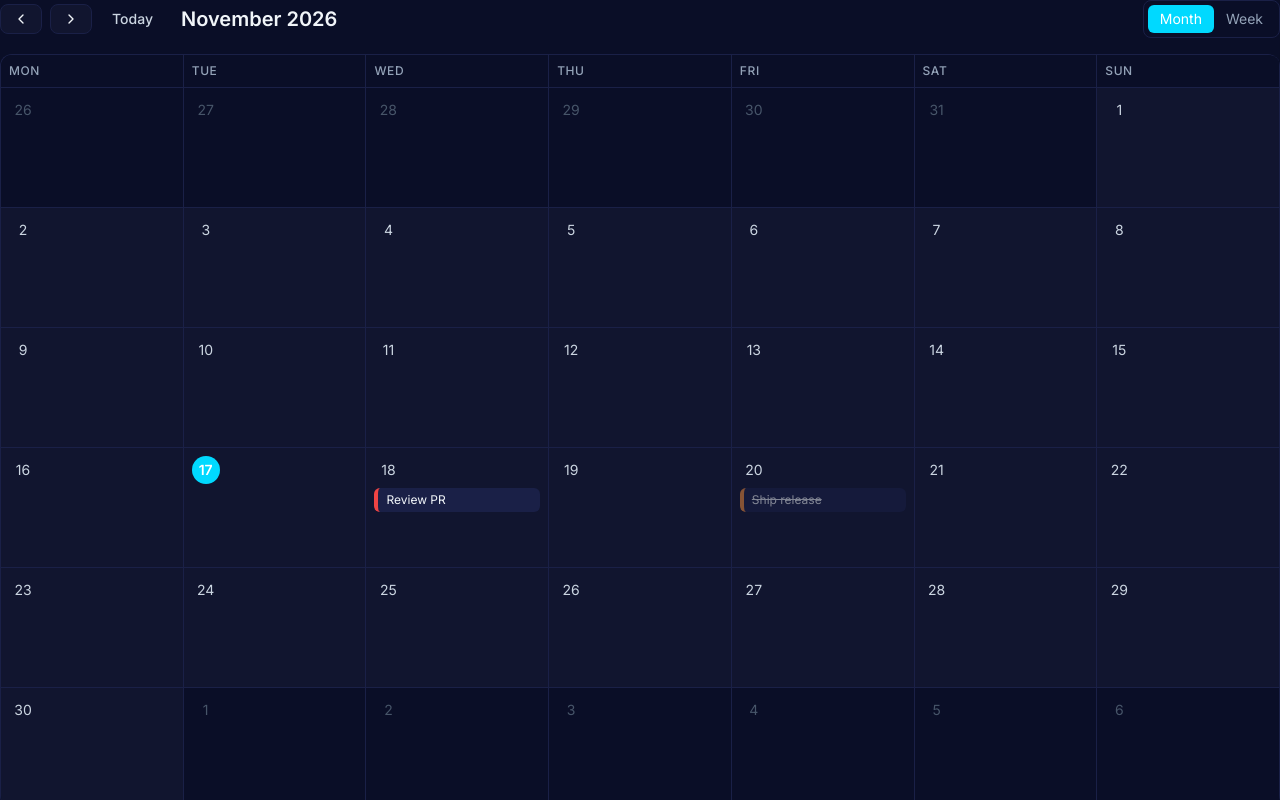
Test: TaskCalendar › switches to the week view
Check: the button "Review PR" is shown, box [374,488,540,512]
Click the button "week" at (1244, 19), box [1214,5,1275,33]
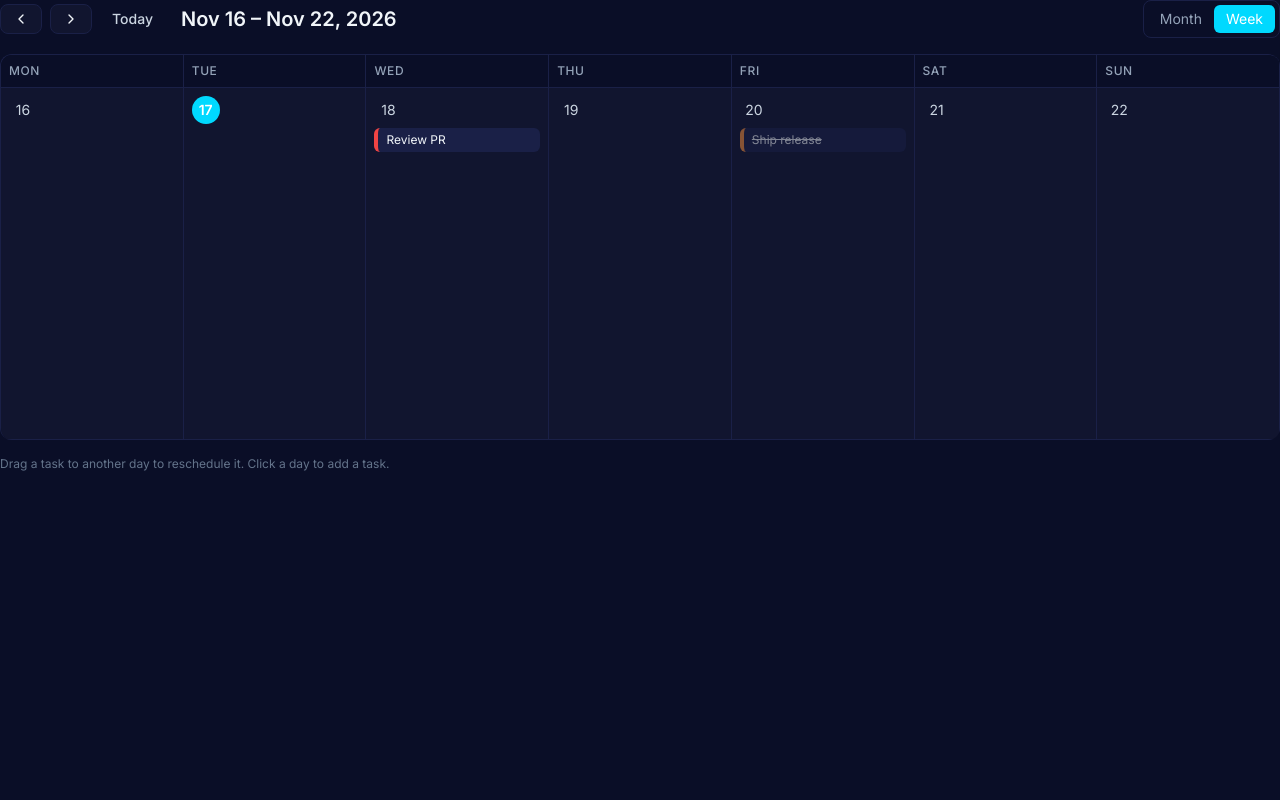
Check: the heading "Nov 16 – Nov 22, 2026" is shown, box [181,5,397,33]
